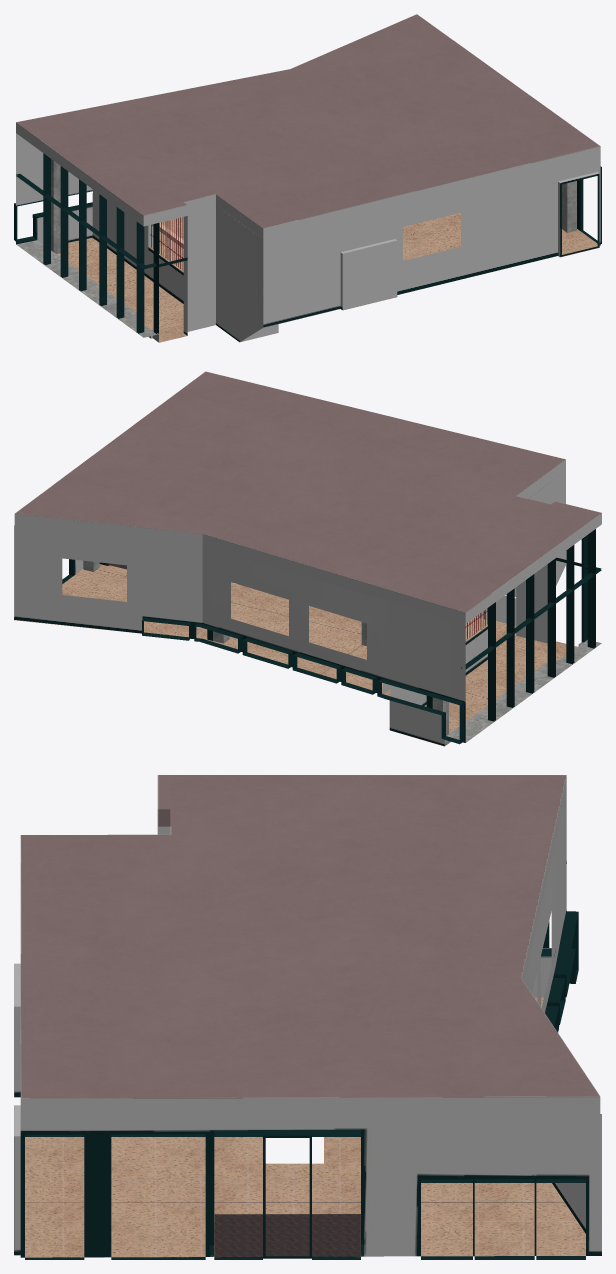
File: exhibition_space_2.glb
3 views of the same model, one above another, from view 1: azimuth 30°, elevation 25°; view 2: azimuth 150°, elevation 25°; view 3: azimuth 270°, elevation 25° (orthographic). The views are drawn at different scales.
Parts seen in each view (by area): view 1: exhibitionFRAME_geo; view 2: exhibitionFRAME_geo; view 3: exhibitionFRAME_geo.
Part boxes in pixels (bbox=[...]): exhibitionFRAME_geo: bbox=[14, 14, 601, 342]; exhibitionFRAME_geo: bbox=[14, 371, 601, 746]; exhibitionFRAME_geo: bbox=[14, 775, 601, 1259].
Bounding box in the file's own units: 20 × 6 × 15.27.
Materials: 1 (1 with a texture image).
